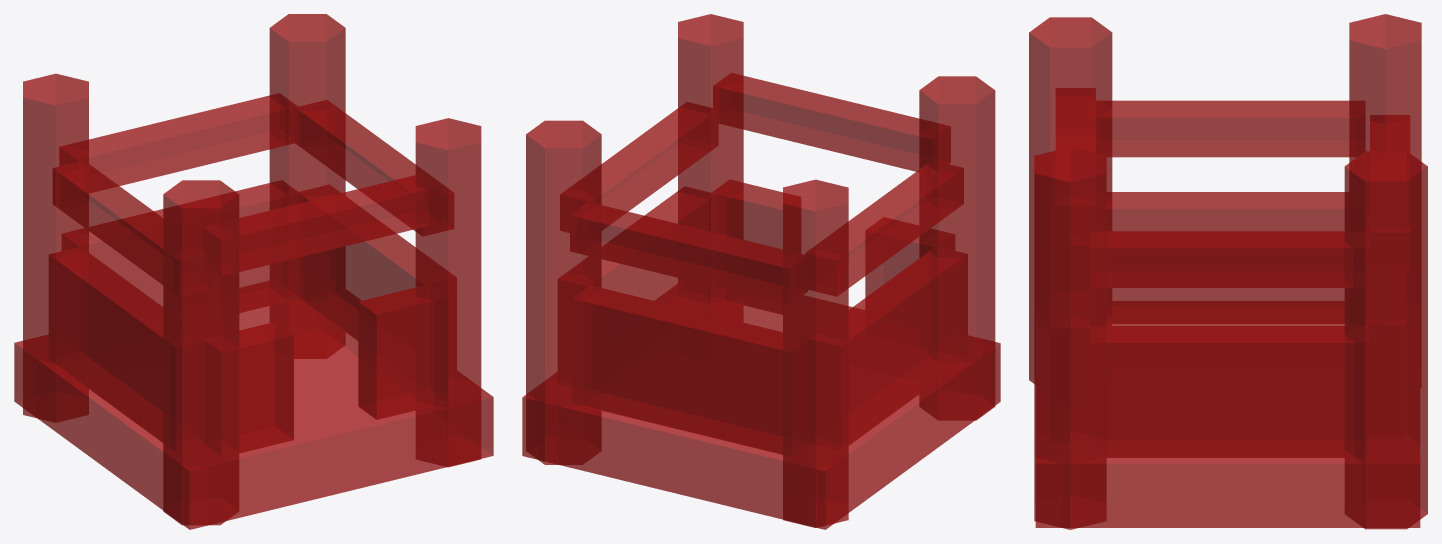
Rendered from SM_Prop_BouncyCastle_Rigged_01_Collision.fbx.
The picture shows the model from 3 angles, left to right: view 1: azimuth 30°, elevation 25°; view 2: azimuth 150°, elevation 25°; view 3: azimuth 270°, elevation 25°; orthographic projection. The views are drawn at different scales.
Visible parts, largest first — view 1: SM_Prop_BouncyCastle_Rigged_01_Collision; view 2: SM_Prop_BouncyCastle_Rigged_01_Collision; view 3: SM_Prop_BouncyCastle_Rigged_01_Collision.
Boxes of the visible parts, x1,y1,x2,y2 form: SM_Prop_BouncyCastle_Rigged_01_Collision: (14, 14, 493, 529); SM_Prop_BouncyCastle_Rigged_01_Collision: (522, 14, 1000, 529); SM_Prop_BouncyCastle_Rigged_01_Collision: (1029, 14, 1427, 529).
Size of the model in its own units: 340 by 328 by 341.
